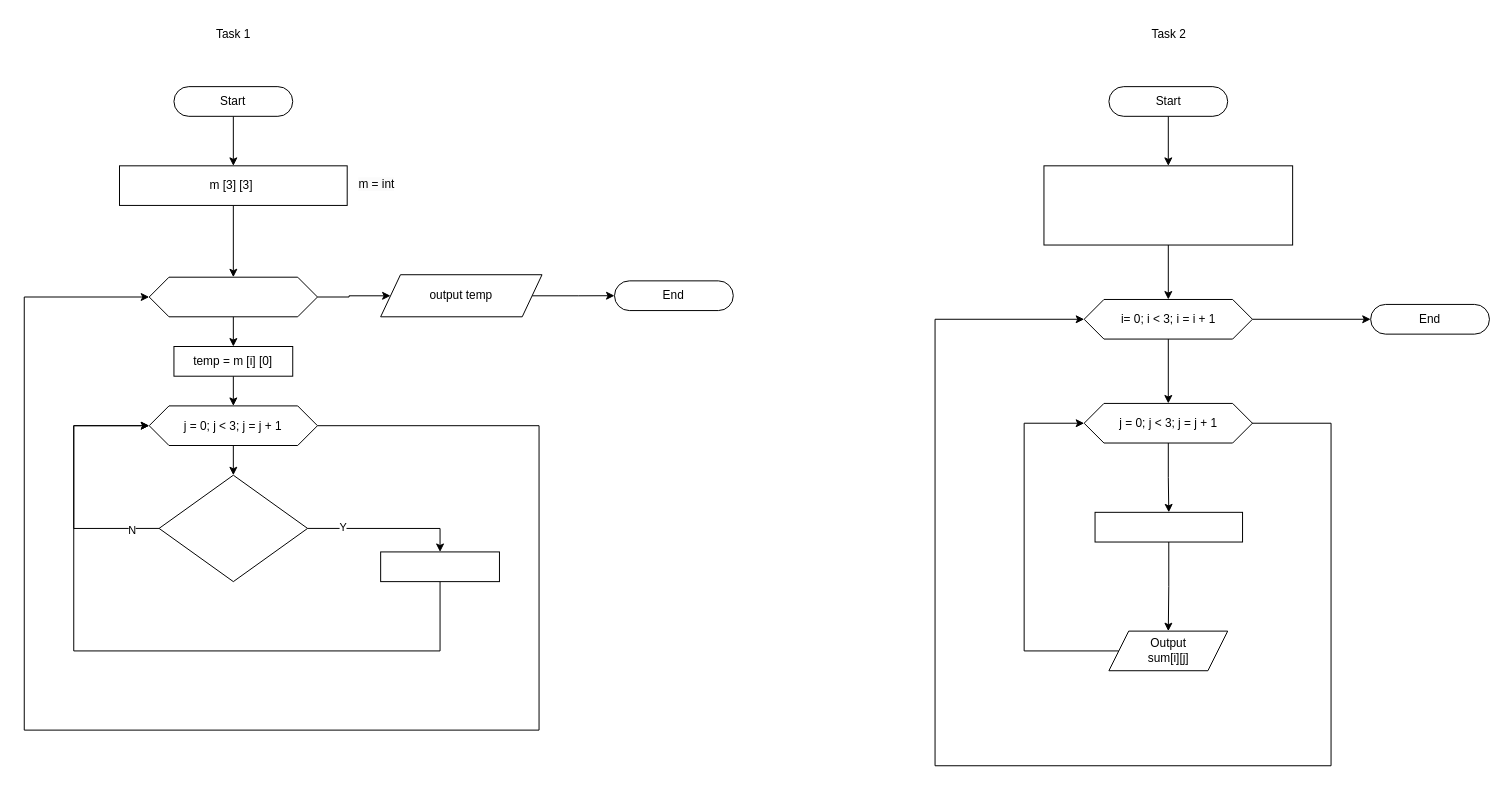
The diagram is 1507 pixels wide and 791 high, and some of its shapes have lost their labels. Here are the shapes that lost their labels. From the top down, the centre of each, then its label:
At [1168,205]: "a[3][3] b[3][3] sum[3][3]".
At [232,296]: "i = 0; i < M; i = i + 1".
At [233,528]: "temp > m [ i ] [ j ]".
At [1168,526]: "sum[i][j] = a[i][j] + b[i][j]".
At [439,566]: "temp = m [ i ] [ j ]".
